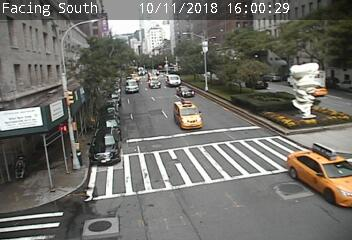car: (288, 150, 352, 206), (174, 101, 202, 130), (176, 86, 195, 98), (166, 75, 181, 86), (149, 80, 161, 89), (148, 74, 158, 82)
